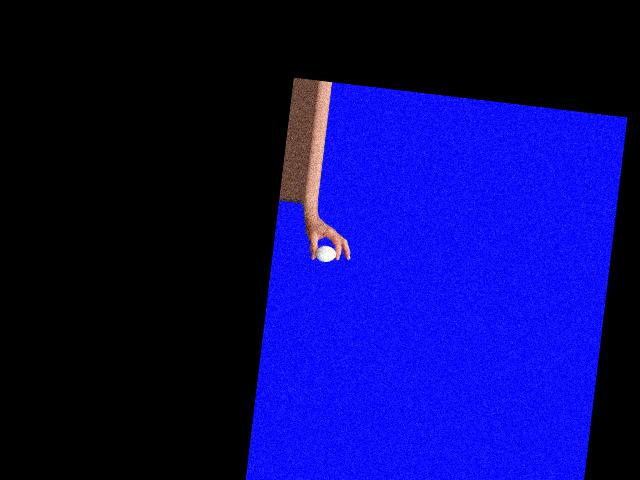egg: (314, 244, 337, 263)
